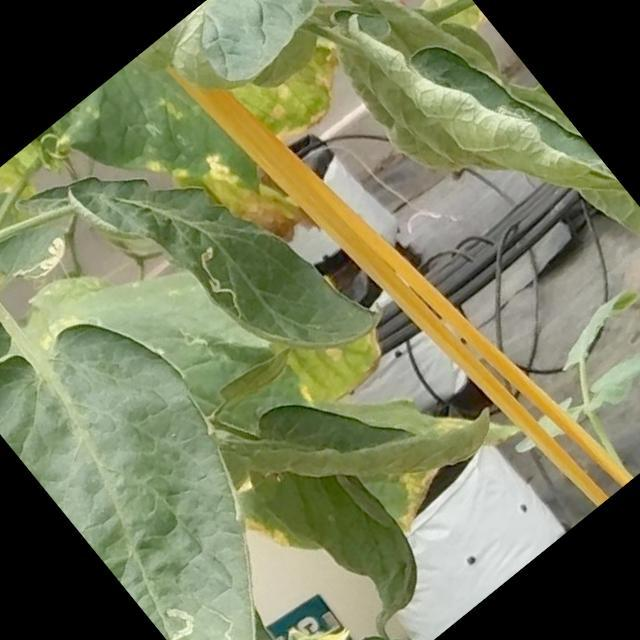Tomato target spot leaf: (0, 276, 369, 640), (67, 80, 395, 428), (0, 193, 94, 299)
